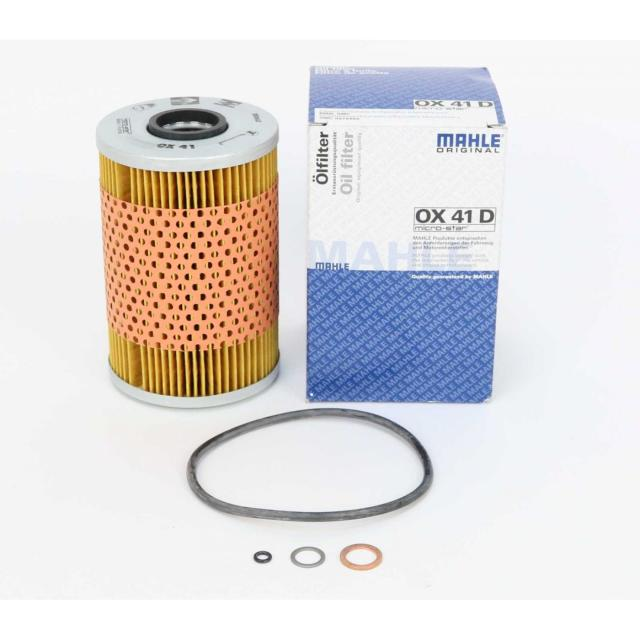oil_filter: (100, 85, 280, 410)
